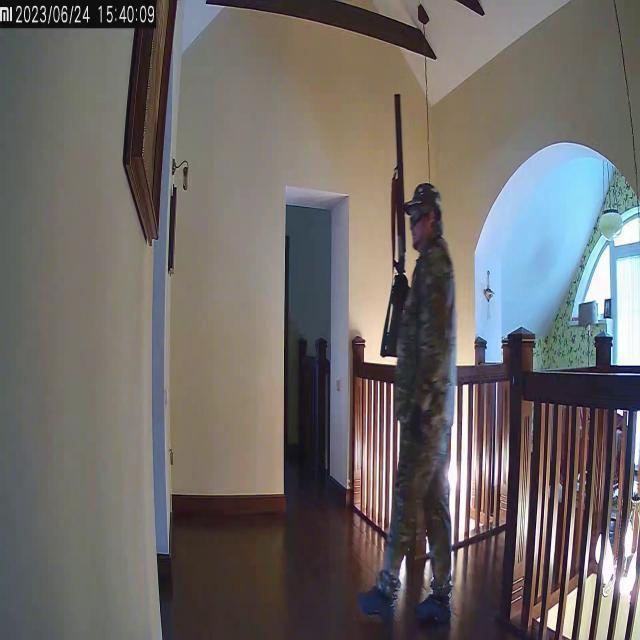pistol: (378, 90, 408, 362)
